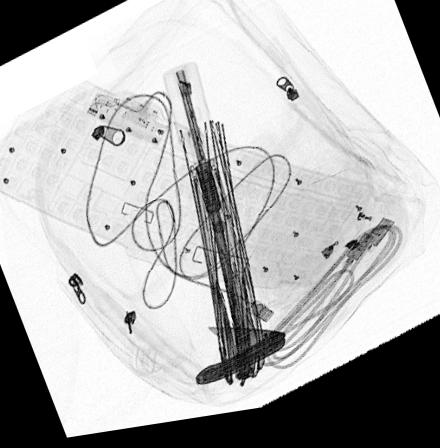Knife: (195, 333, 287, 390)
